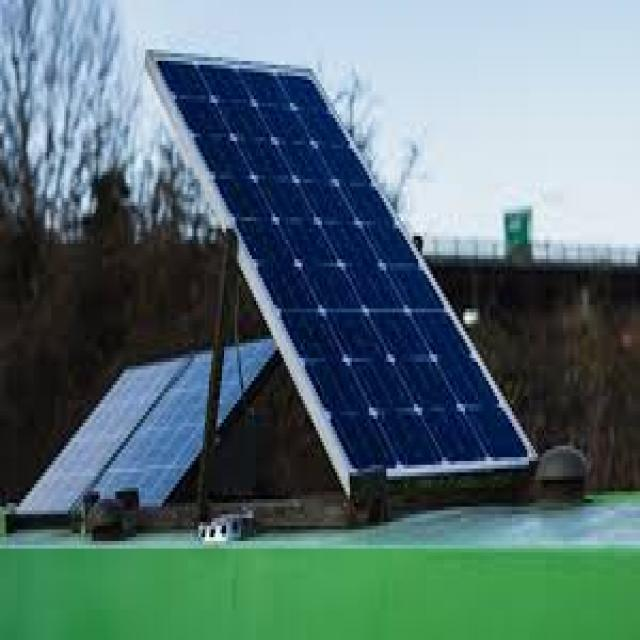no faulty: (145, 57, 532, 468)
